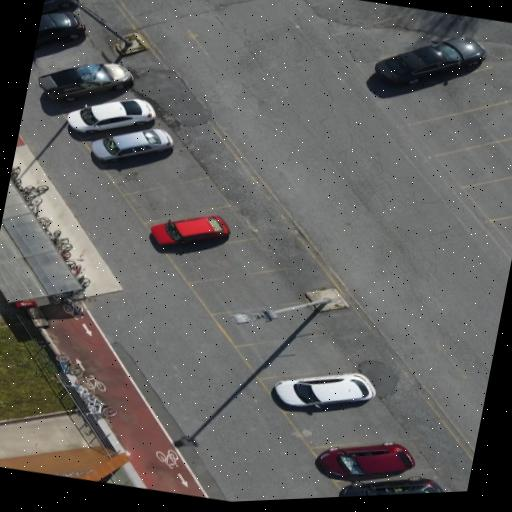car: (375, 38, 485, 84), (38, 63, 132, 101), (318, 443, 414, 479), (275, 373, 375, 407), (67, 99, 155, 132), (91, 129, 172, 161), (151, 215, 229, 245), (340, 476, 442, 496), (35, 12, 84, 47), (42, 0, 75, 13)
